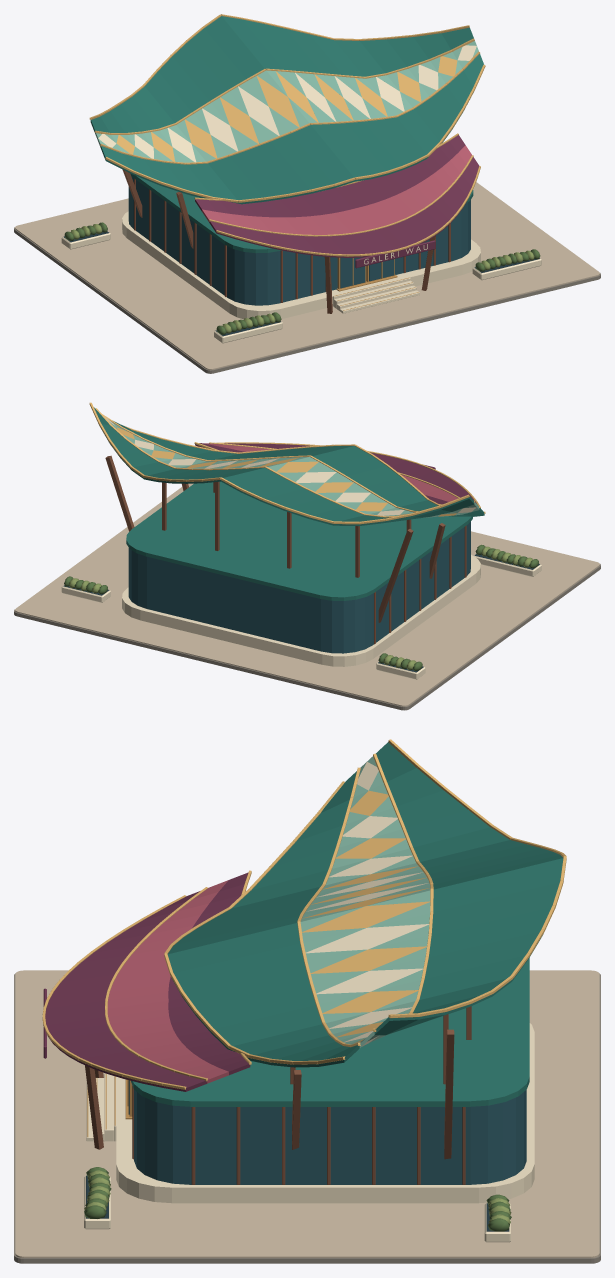
3 views of the same model, one above another, from view 1: azimuth 30°, elevation 25°; view 2: azimuth 150°, elevation 25°; view 3: azimuth 270°, elevation 25° (orthographic). The views are drawn at different scales.
Visible parts, largest first — view 1: Batik Wing Shell, Gallery Terrace, Glazed Exhibition Hall, Moon Tail Portico; view 2: Glazed Exhibition Hall, Gallery Terrace, Batik Wing Shell, Moon Tail Portico; view 3: Batik Wing Shell, Glazed Exhibition Hall, Gallery Terrace, Moon Tail Portico.
Part boxes in pixels (bbox=[...]): Batik Wing Shell: bbox=[89, 14, 485, 248]; Gallery Terrace: bbox=[14, 182, 600, 373]; Glazed Exhibition Hall: bbox=[61, 173, 541, 343]; Moon Tail Portico: bbox=[194, 133, 480, 313]; Glazed Exhibition Hall: bbox=[61, 481, 541, 679]; Gallery Terrace: bbox=[14, 483, 600, 710]; Batik Wing Shell: bbox=[89, 402, 485, 622]; Moon Tail Portico: bbox=[194, 442, 480, 508]; Batik Wing Shell: bbox=[164, 739, 566, 1159]; Glazed Exhibition Hall: bbox=[84, 958, 534, 1242]; Gallery Terrace: bbox=[14, 970, 600, 1263]; Moon Tail Portico: bbox=[42, 870, 251, 1149].
Size of the model in its own units: 28.5 by 12.19 by 24.6.
